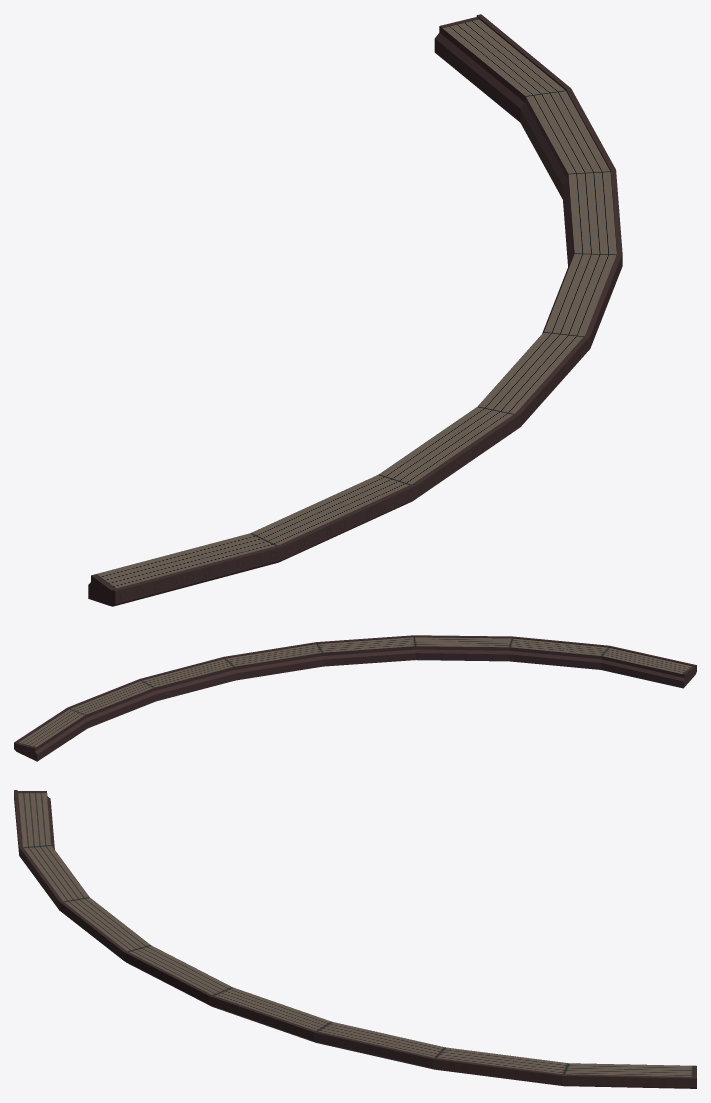
File: SW_ENV_EL_TrackBase_Walkway_SingleInner_Side_B.fbx
The picture shows the model from 3 angles, top to bottom: view 1: azimuth 30°, elevation 25°; view 2: azimuth 150°, elevation 25°; view 3: azimuth 270°, elevation 25°; orthographic projection. The views are drawn at different scales.
Visible parts, largest first — view 1: SW_ENV_EL_TrackBase_Walkway_SingleInner_Side_B; view 2: SW_ENV_EL_TrackBase_Walkway_SingleInner_Side_B; view 3: SW_ENV_EL_TrackBase_Walkway_SingleInner_Side_B.
Boxes of the visible parts, left/top/right/bottom form: SW_ENV_EL_TrackBase_Walkway_SingleInner_Side_B: left=88, top=14, right=622, bottom=606; SW_ENV_EL_TrackBase_Walkway_SingleInner_Side_B: left=14, top=635, right=696, bottom=761; SW_ENV_EL_TrackBase_Walkway_SingleInner_Side_B: left=14, top=790, right=696, bottom=1088.
Size of the model in its own units: 2795 by 83.5 by 2795.
